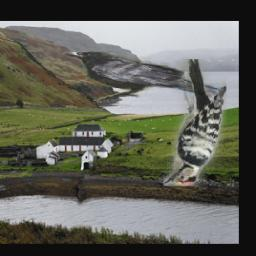Crow: (63, 51, 224, 104)
Woodpecker: (163, 59, 226, 186)
